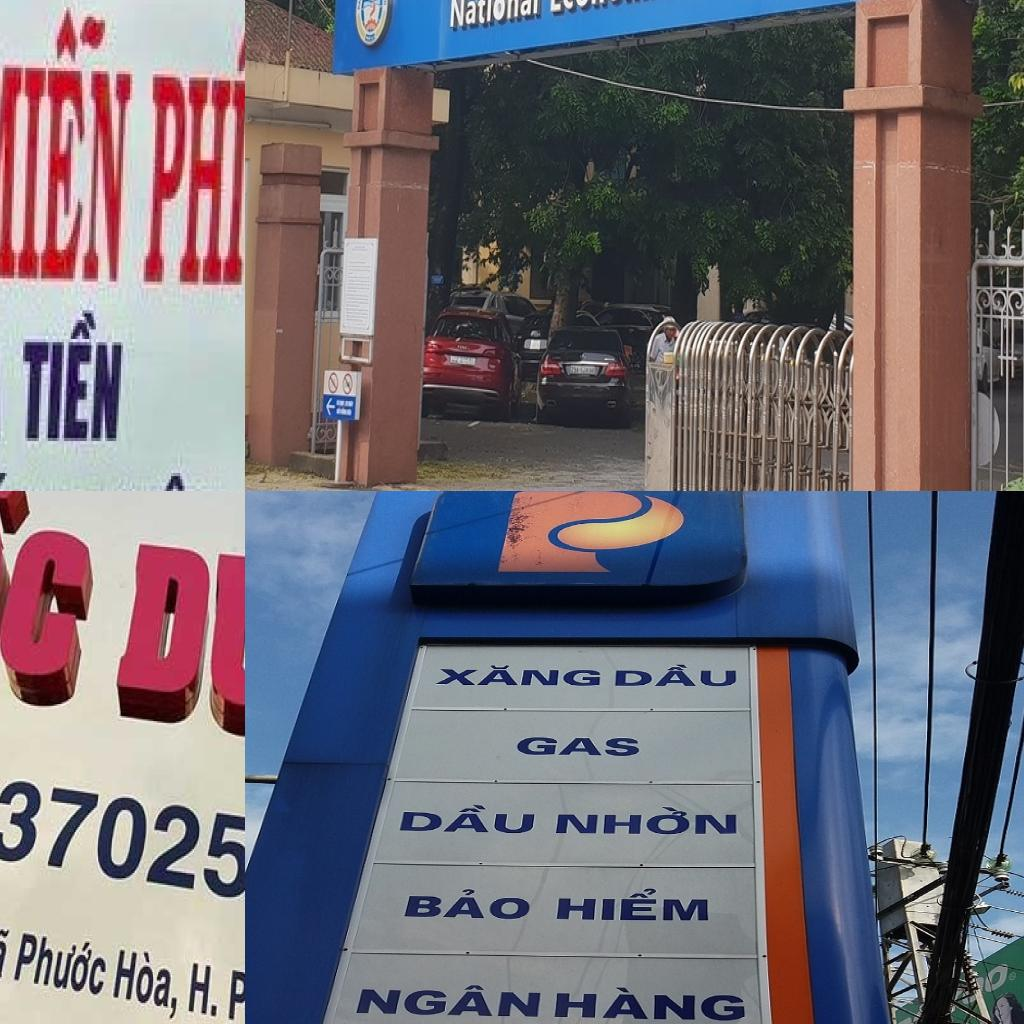text: (0, 770, 245, 961), (99, 509, 245, 801), (0, 0, 139, 291), (0, 491, 124, 750), (139, 10, 245, 297), (19, 304, 130, 447), (548, 980, 752, 1024), (7, 924, 111, 1006), (351, 976, 544, 1018), (548, 879, 722, 924), (507, 725, 649, 774), (552, 803, 744, 838), (104, 938, 182, 1023), (430, 660, 608, 696), (394, 800, 544, 838), (396, 884, 538, 924), (607, 660, 744, 692), (445, 0, 545, 33), (181, 951, 222, 1024), (548, 0, 688, 18), (223, 960, 245, 1024), (0, 913, 16, 992)
